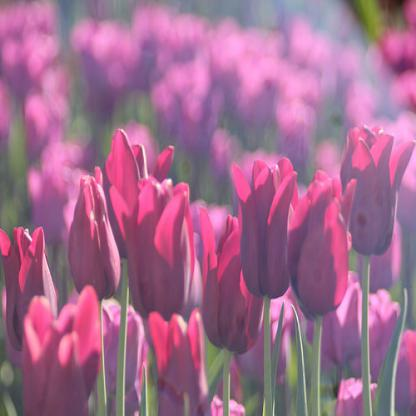TULIP: (14, 113, 402, 392)
